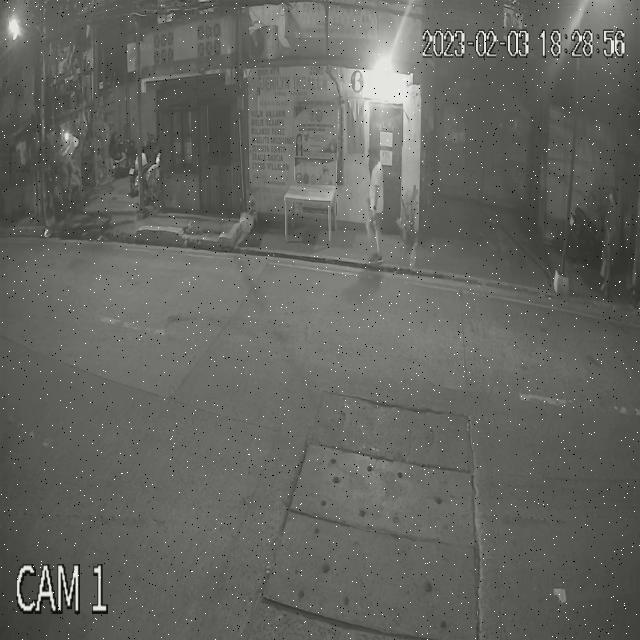human: (599, 182, 620, 298)
